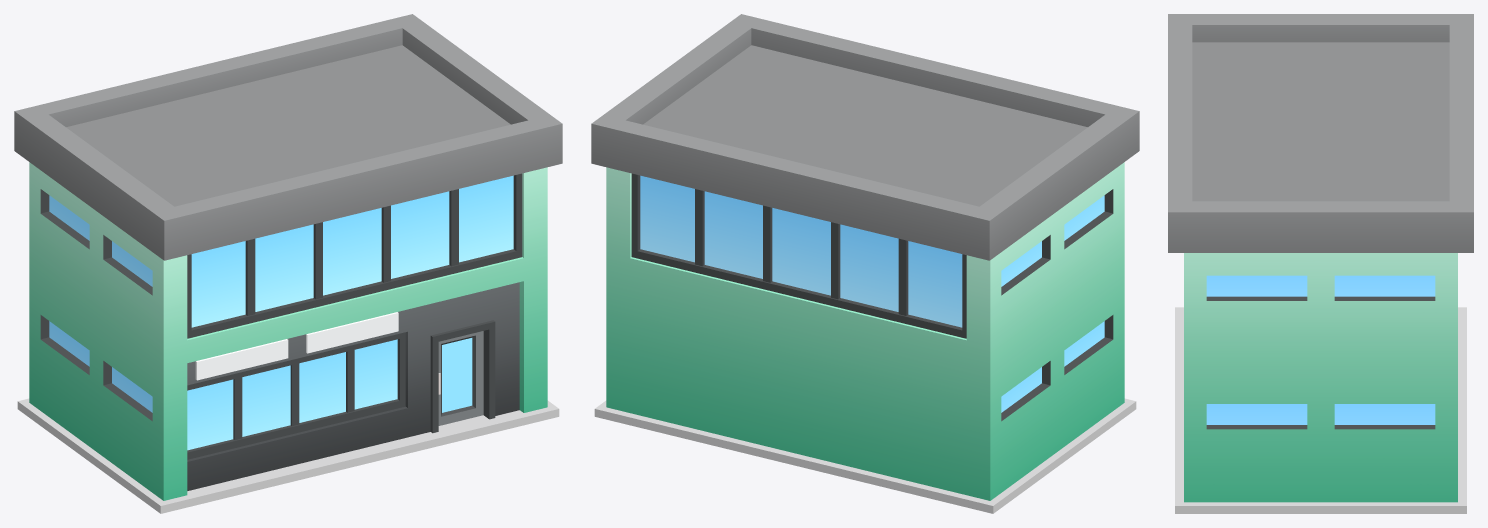
Rendered from Building_Supermarket_05.glb.
3 views of the same model, side by side, from view 1: azimuth 30°, elevation 25°; view 2: azimuth 150°, elevation 25°; view 3: azimuth 270°, elevation 25° (orthographic). The views are drawn at different scales.
Visible parts, largest first — view 1: Building_Supermarket_05; view 2: Building_Supermarket_05; view 3: Building_Supermarket_05.
Part boxes in pixels (<box>): Building_Supermarket_05: <box>14,14,562,513</box>; Building_Supermarket_05: <box>591,14,1139,513</box>; Building_Supermarket_05: <box>1168,14,1473,513</box>.
Bounding box in the file's own units: 10.53 × 7.46 × 6.86.
1 material, 1 textured.
